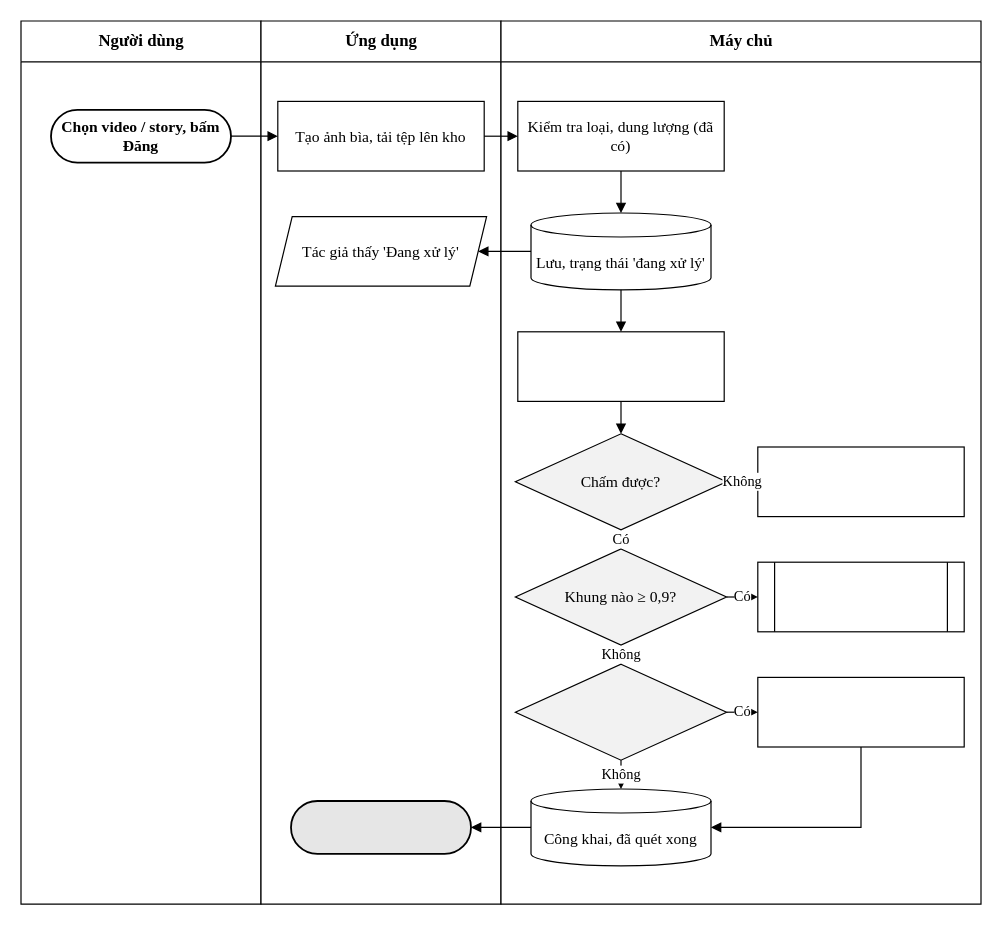
Image size: 1002x925. Some labels were removed from this diagram. The box of each missing label's shape, as (x1, y1, x2, y2) in pixels:
Giữ ẩn, chuyển hàng đợi C1: (757, 561, 964, 632)
Gắn nhãn nhạy cảm: (757, 676, 964, 747)
Lấy ảnh bìa + 3–5 khung hình: (517, 331, 724, 401)
Lỗi 3 lần: xử lý như thiếu mô hình: (757, 446, 964, 517)
Người khác thấy (mờ nếu có nhãn): (290, 800, 471, 854)
≥ 0,7 hoặc tự gắn?: (514, 663, 727, 760)
